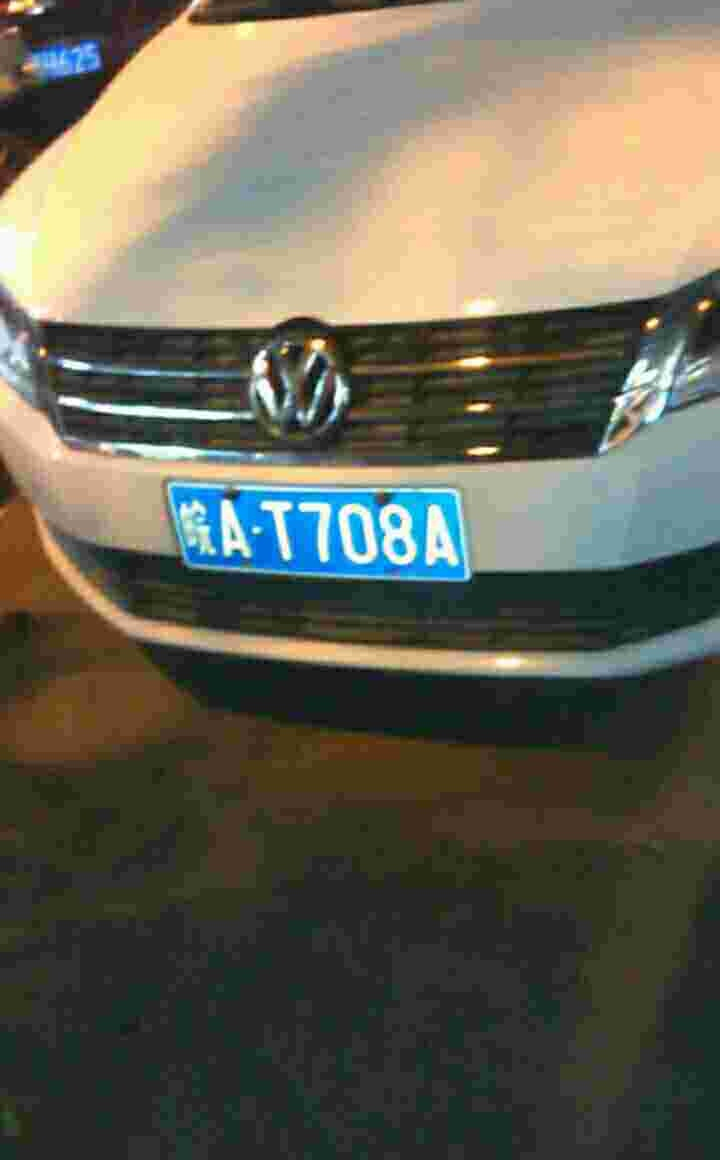license_plate: (176, 482, 481, 584)
